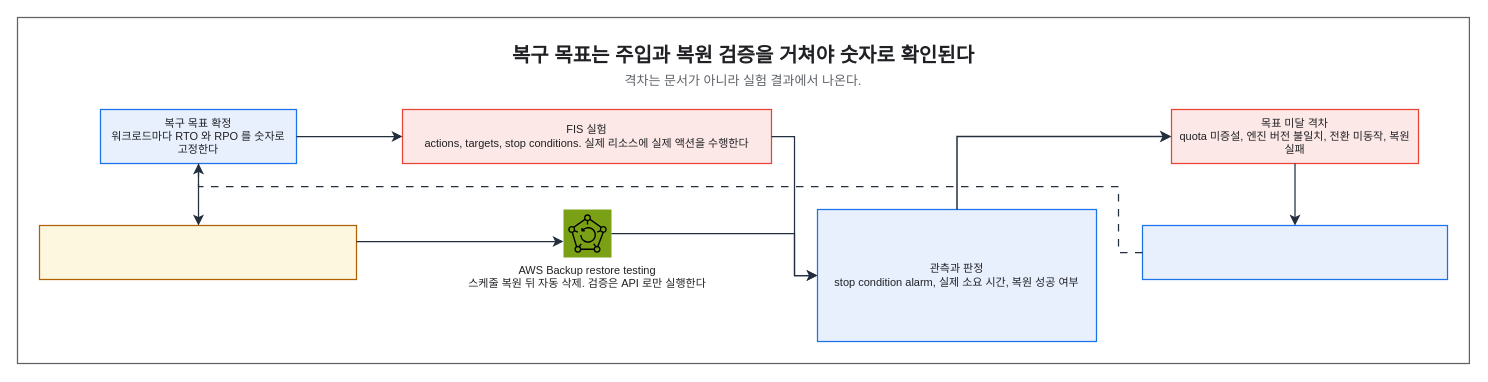
Some shapes in this 1488 by 382 pixel diagram are drawn without their labels. The shapes that lost their labels are listed below. From the top down, each one's box as (x1, y1, x2, y2) in pixels, then its label:
(38, 224, 357, 280): Resilience Hub 평가 목표 대비 현재 구성을 진단하고 Well-Architected 기반 개선을 권고한다
(1141, 224, 1448, 280): 교정 quota 증설, 복제 구성 보완, 전환 절차 수정 후 같은 실험을 다시 돌린다
